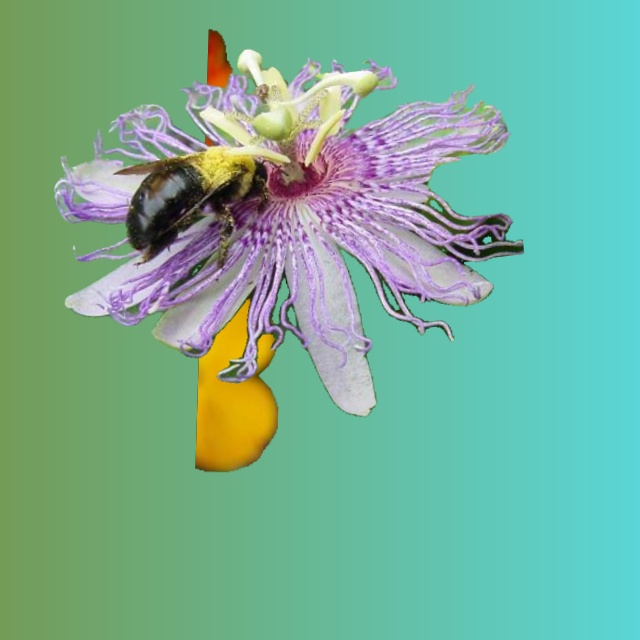passion flower: (54, 49, 523, 416)
wallflower: (195, 29, 346, 471)
